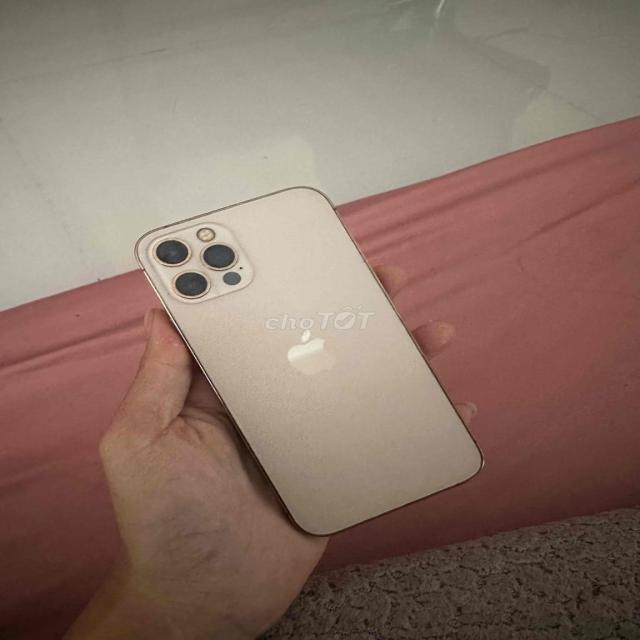gen_12_13: (132, 184, 489, 542)
